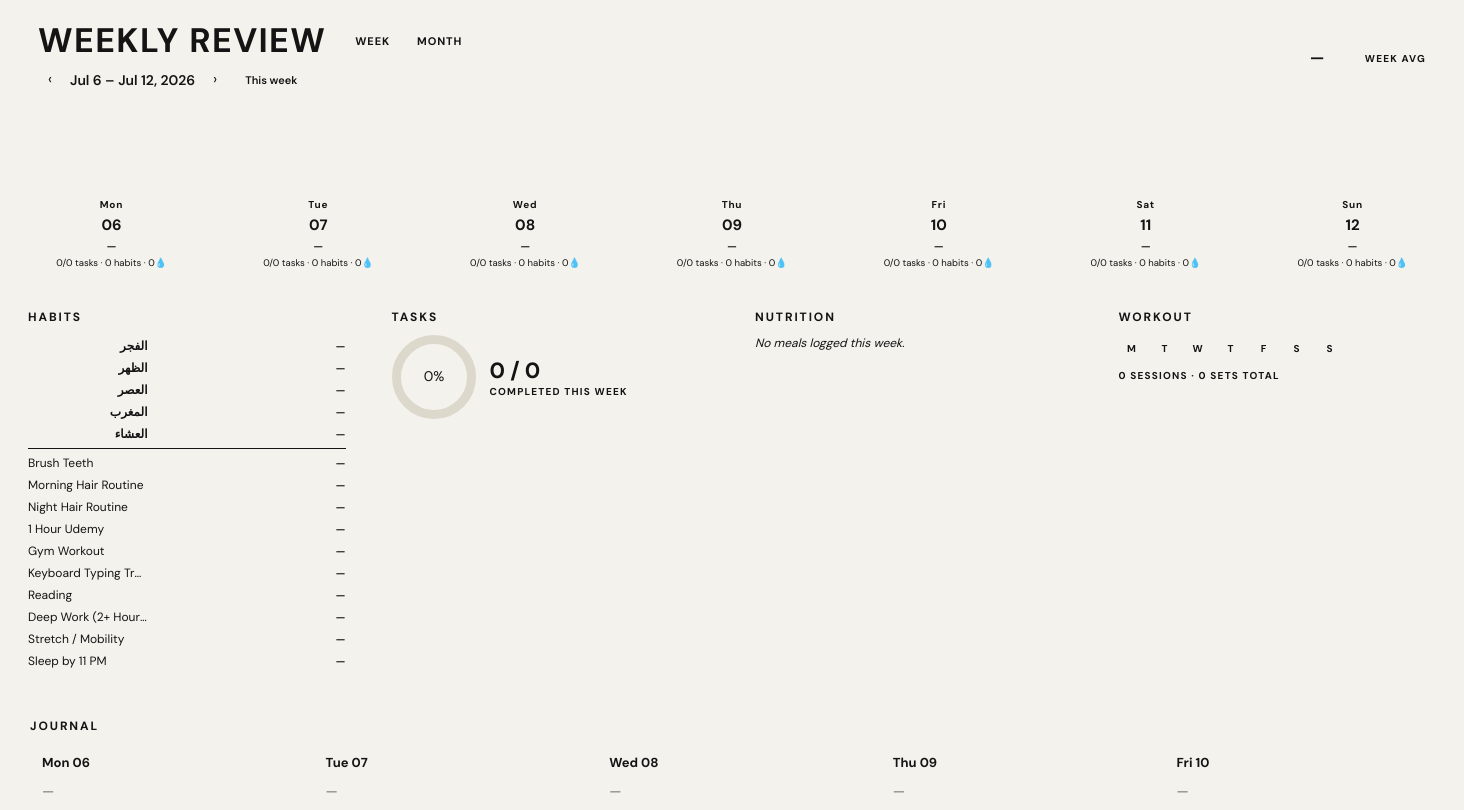
Test: Monthly Review › the mode toggle switches between weekly and monthly
Expected: the heading "WEEKLY REVIEW" is shown, [38, 24, 326, 58]
What coordinates should you click on to do the following:
click the button "Month"
I would click on:
 (440, 41)
Its box is [405, 32, 474, 50].
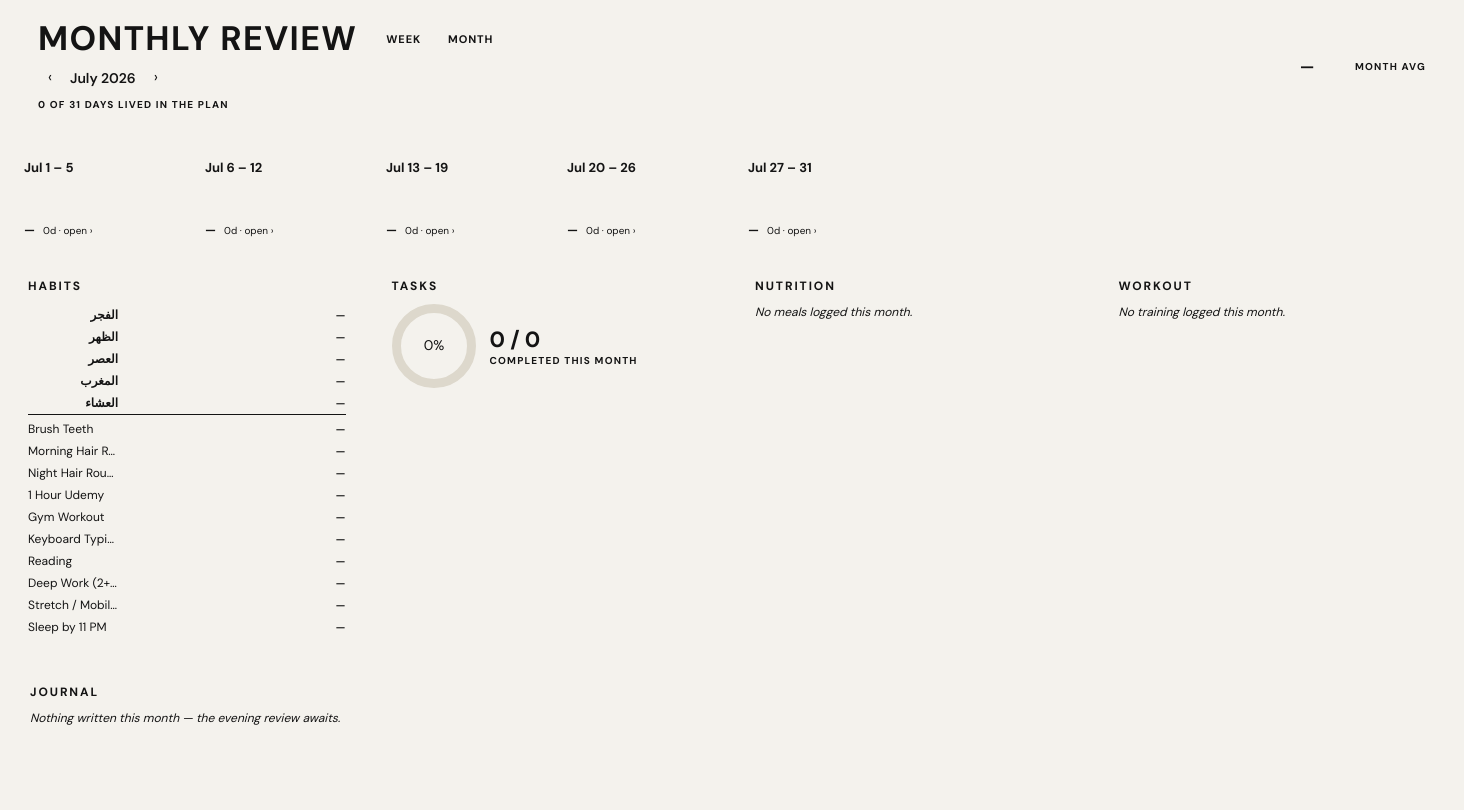
Now the heading "MONTHLY REVIEW" is shown, box [38, 22, 357, 56]
What coordinates should you click on to do the following:
click the button "Week"
I would click on:
 (404, 39)
Its box is [374, 30, 433, 48].
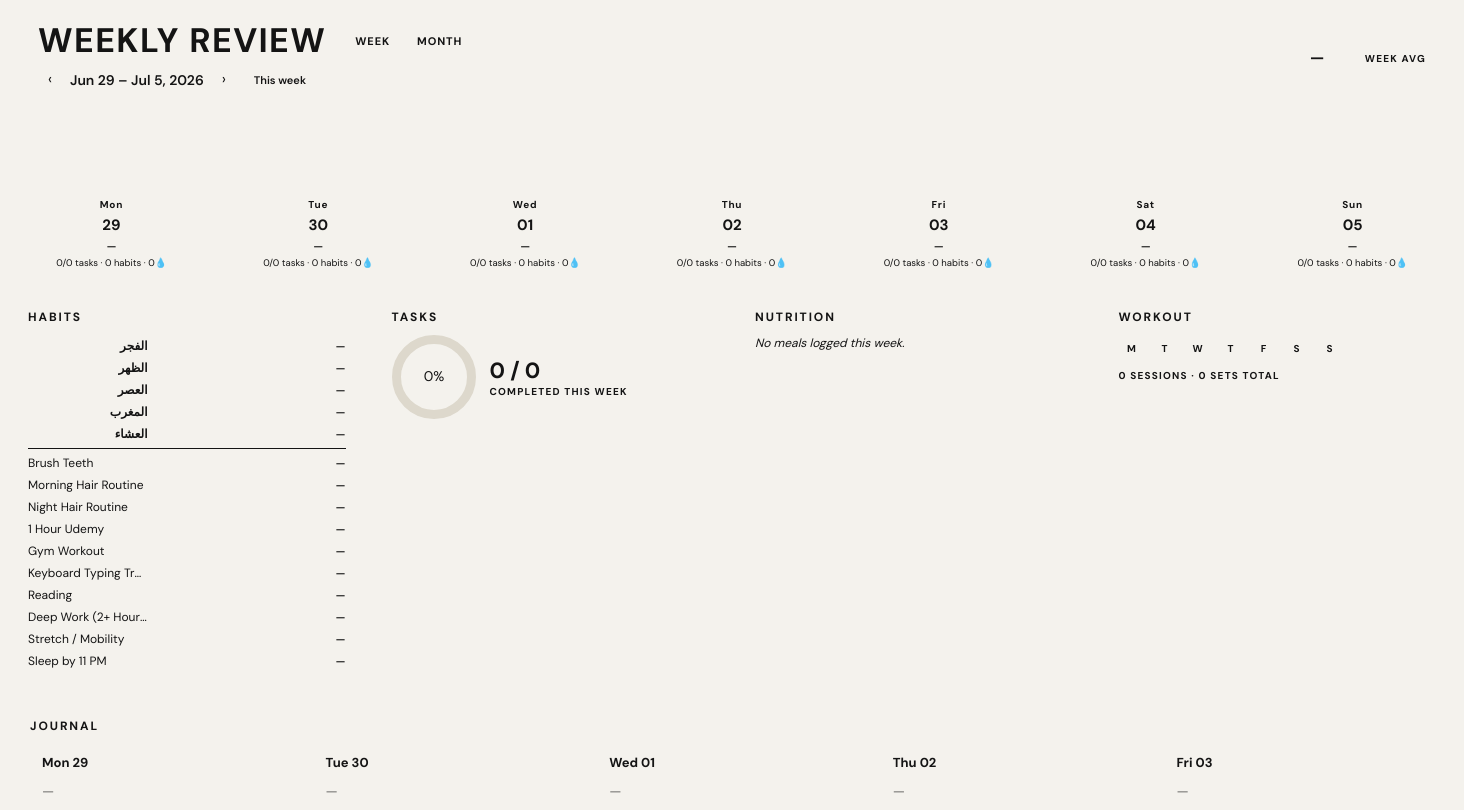
Now the heading "WEEKLY REVIEW" is shown, box [38, 24, 326, 58]
